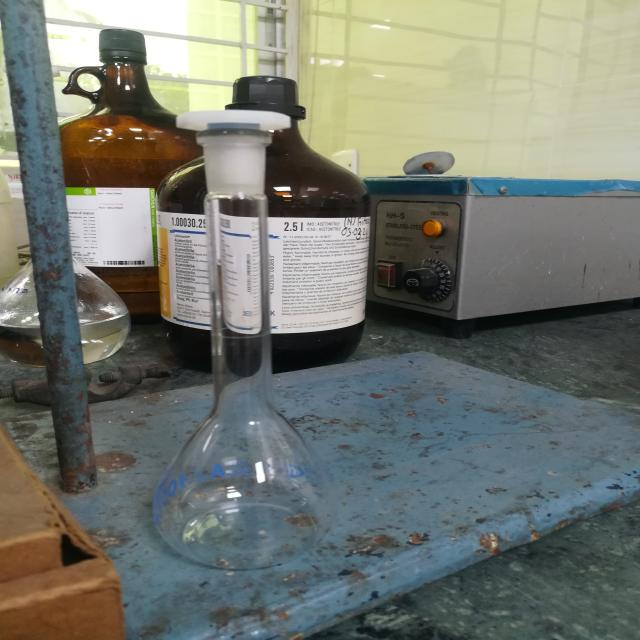Volumetric_Flask: (134, 61, 375, 602)
